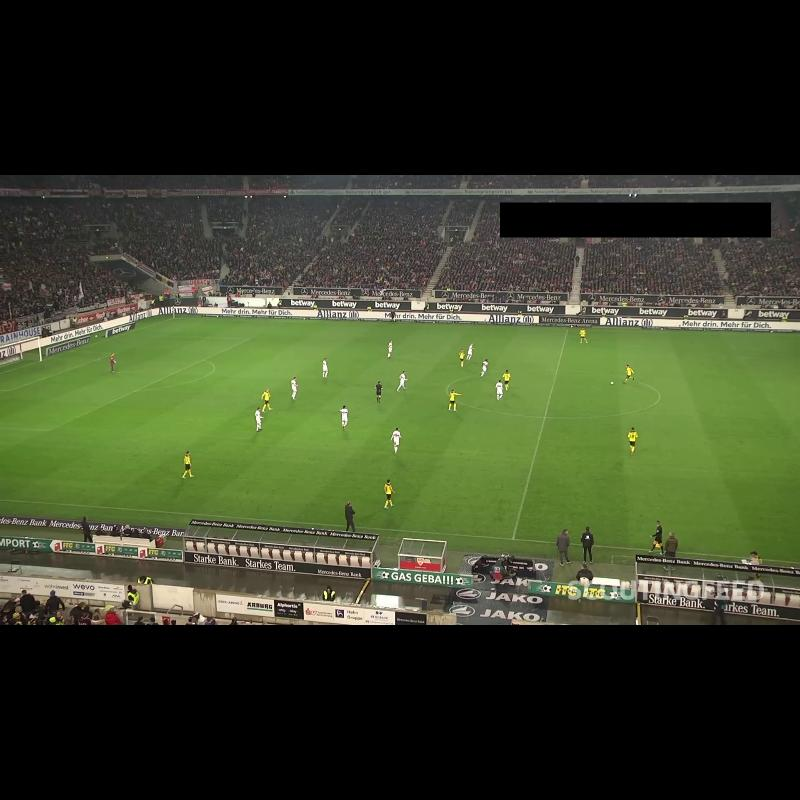cross_recipient_zone: (0, 334, 250, 431)
crossing_player_zone: (0, 428, 158, 503), (126, 318, 345, 342)
pitch: (0, 318, 800, 563)
